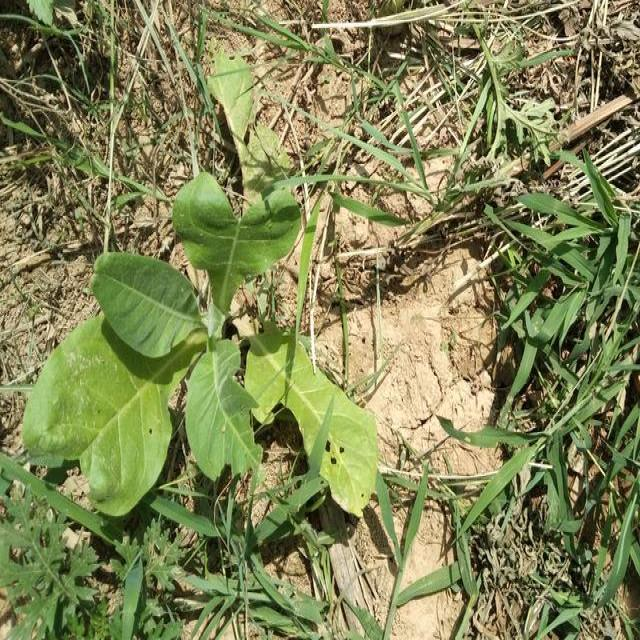crop: (34, 58, 373, 516)
